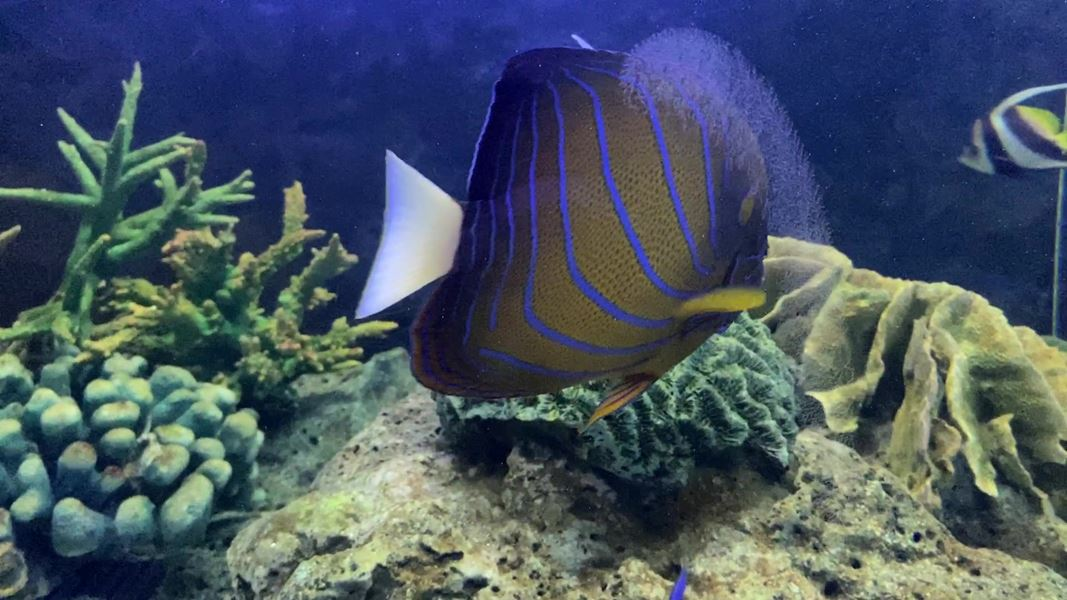Blue ring angelfish: (337, 32, 788, 438)
